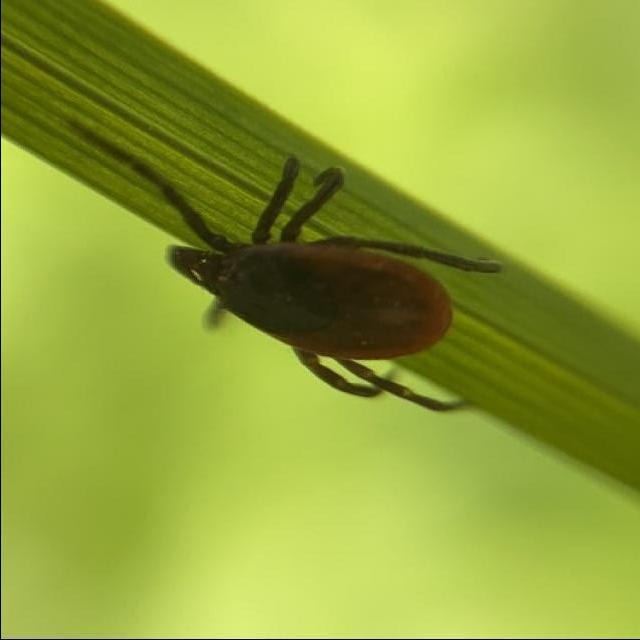Ixodes Ricinus-F: (114, 155, 497, 413)
